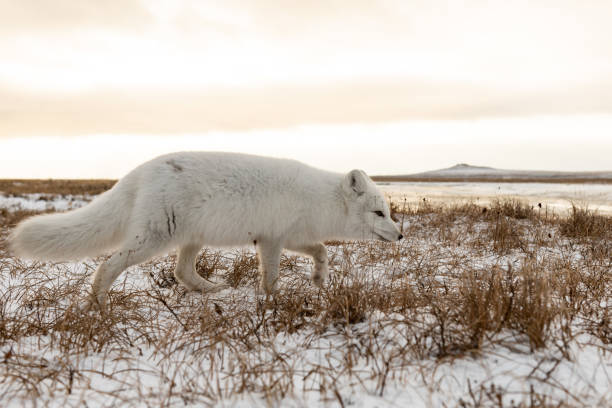arcticfox: (349, 172, 400, 256)
